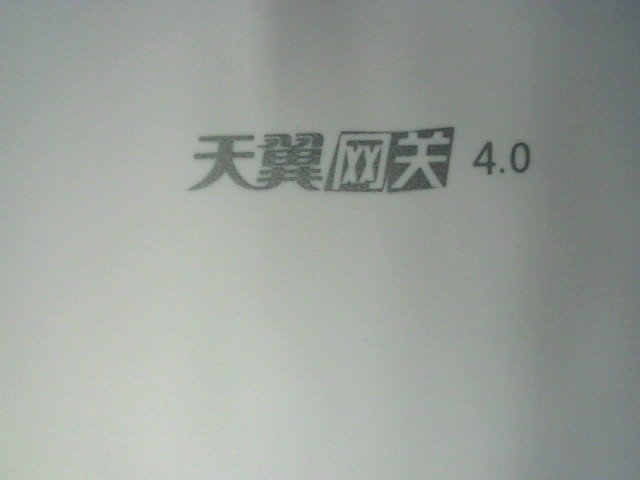BM_TianYiWangGuan: (184, 118, 533, 199)
